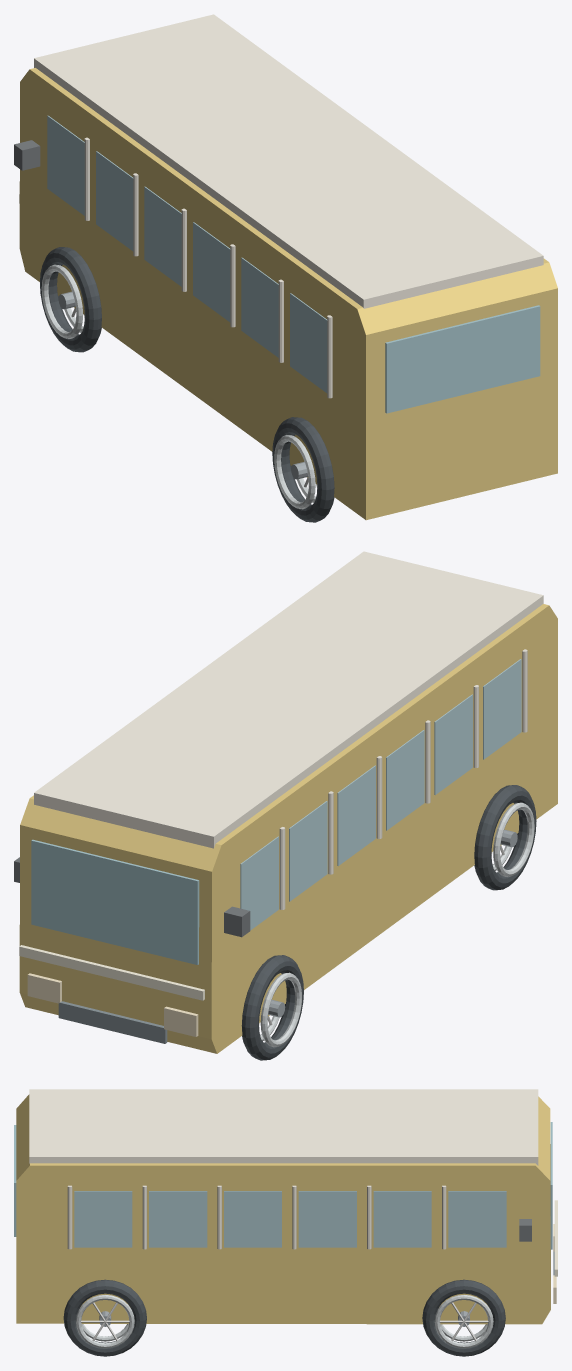
The model's file is bus.glb.
3 views of the same model, one above another, from view 1: azimuth 30°, elevation 25°; view 2: azimuth 150°, elevation 25°; view 3: azimuth 270°, elevation 25° (orthographic). The views are drawn at different scales.
Visible parts, largest first — view 1: Bus_Body_001, Bus_Roof_002, Bus_RearGlass_070, Wheel_Tire_015, Wheel_Tire_025, Bus_Window_003, Bus_Window_011, Bus_Window_005, Bus_Window_007, Bus_Window_009, Bus_Window_013, Wheel_Rim_026 (+2 smaller); view 2: Bus_Body_001, Bus_Roof_002, Bus_FrontGlass_069, Wheel_Tire_025, Wheel_Tire_015, Bus_Window_005, Bus_Window_007, Bus_Window_009, Bus_Window_011, Bus_Window_013, Bus_Window_003, Bus_Stripe_074 (+6 smaller); view 3: Bus_Body_001, Bus_Roof_002, Bus_Window_036, Bus_Window_038, Bus_Window_040, Bus_Window_044, Bus_Window_046, Bus_Window_042, Wheel_Tire_048, Wheel_Tire_058, Wheel_Rim_060, Wheel_Rim_050 (+2 smaller).
Part boxes in pixels (box(x1,y1,x2,y2)): Bus_Body_001: box(19, 68, 557, 520); Bus_Roof_002: box(34, 14, 543, 308); Bus_RearGlass_070: box(385, 305, 540, 413); Wheel_Tire_015: box(40, 247, 101, 352); Wheel_Tire_025: box(272, 417, 334, 522); Bus_Window_003: box(47, 115, 84, 215); Bus_Window_011: box(241, 257, 278, 357); Bus_Window_005: box(96, 151, 133, 251); Bus_Window_007: box(144, 186, 181, 286); Bus_Window_009: box(193, 222, 230, 322); Bus_Window_013: box(290, 293, 327, 393); Wheel_Rim_026: box(274, 435, 315, 509); Bus_Body_001: box(19, 604, 557, 1053); Bus_Roof_002: box(34, 551, 543, 848); Bus_FrontGlass_069: box(31, 839, 199, 964); Wheel_Tire_025: box(474, 785, 536, 890); Wheel_Tire_015: box(241, 955, 303, 1060); Bus_Window_005: box(289, 801, 327, 901); Bus_Window_007: box(337, 765, 375, 865); Bus_Window_009: box(386, 730, 424, 830); Bus_Window_011: box(434, 694, 472, 794); Bus_Window_013: box(483, 659, 521, 759); Bus_Window_003: box(240, 836, 278, 930); Bus_Stripe_074: box(19, 945, 204, 1000); Bus_Body_001: box(16, 1094, 550, 1324); Bus_Roof_002: box(29, 1089, 538, 1165); Bus_Window_036: box(448, 1191, 506, 1247); Bus_Window_038: box(373, 1191, 431, 1247); Bus_Window_040: box(298, 1191, 356, 1247); Bus_Window_044: box(149, 1191, 207, 1247); Bus_Window_046: box(74, 1191, 132, 1247); Bus_Window_042: box(224, 1191, 281, 1247); Wheel_Tire_048: box(422, 1279, 505, 1356); Wheel_Tire_058: box(63, 1279, 146, 1356); Wheel_Rim_060: box(76, 1294, 134, 1348); Wheel_Rim_050: box(434, 1294, 493, 1348).
Bounding box in the file's own units: 3.04 × 3.22 × 8.14.
